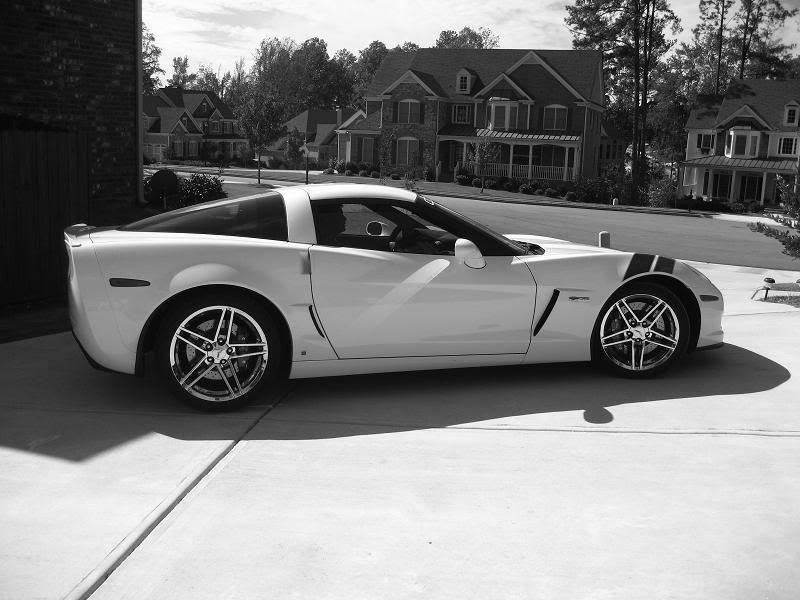car: (61, 175, 735, 423)
